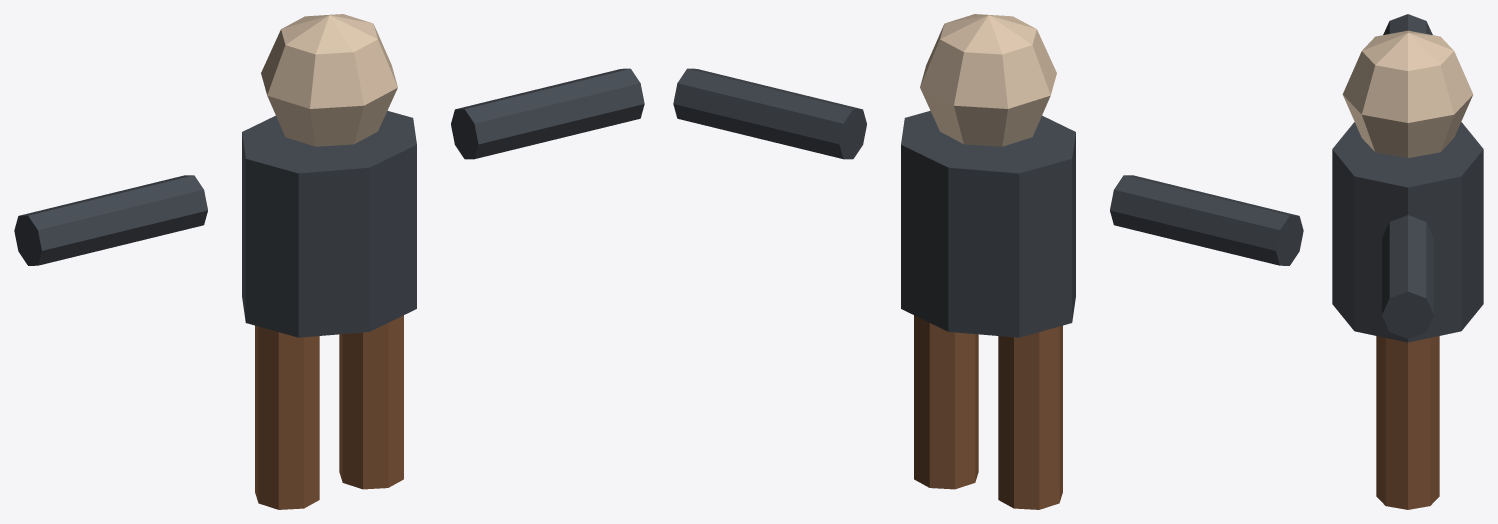
The model's file is landlord.glb.
3 renders of one model, left to right at view 1: azimuth 30°, elevation 25°; view 2: azimuth 150°, elevation 25°; view 3: azimuth 270°, elevation 25°, orthographic. The views are drawn at different scales.
Visible parts, largest first — view 1: landlord; view 2: landlord; view 3: landlord.
Boxes of the visible parts, bbox=[...] form: landlord: bbox=[14, 14, 644, 509]; landlord: bbox=[673, 14, 1303, 509]; landlord: bbox=[1332, 14, 1483, 509].
Size of the model in its own units: 2.17 by 1.62 by 0.5002.
